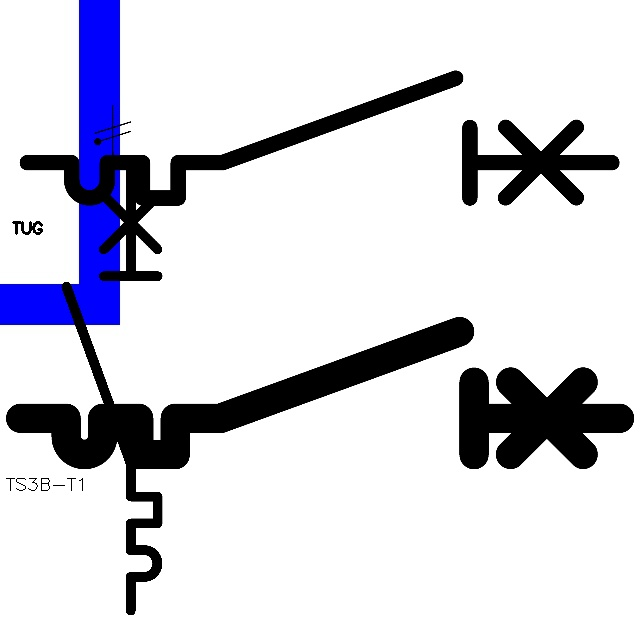interruptor_termomagnetico: (5, 316, 635, 470), (12, 63, 627, 213), (55, 157, 169, 622)
